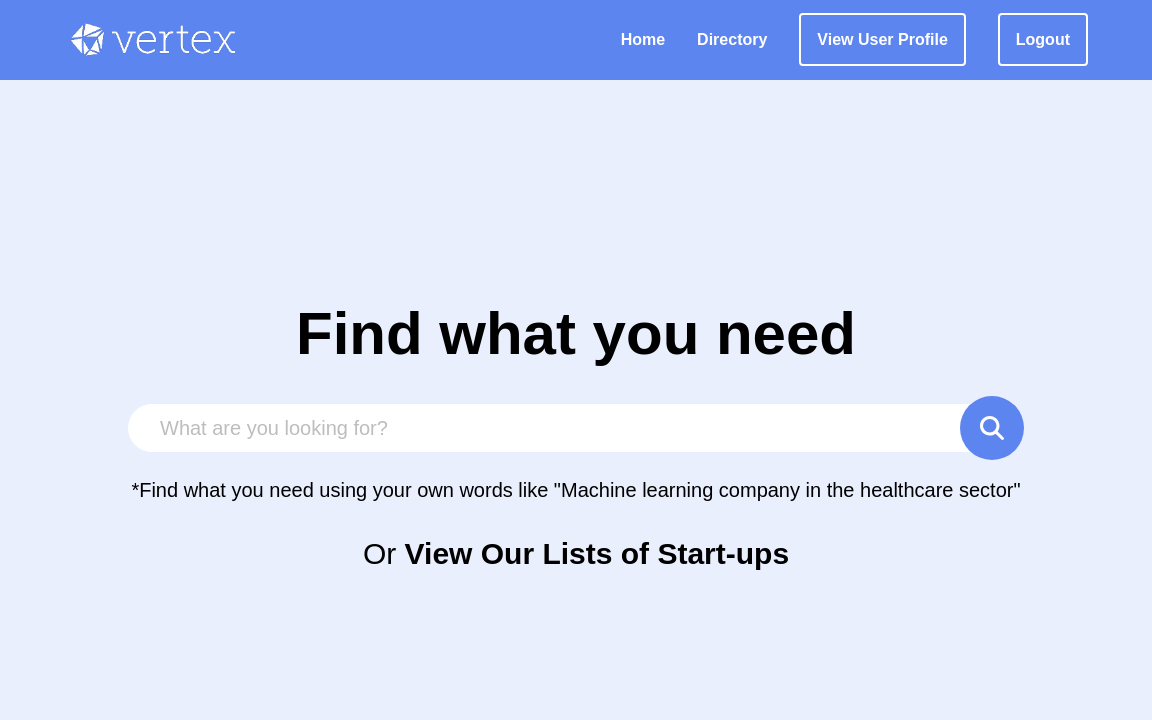
Test: Testing Routing › Clicking on Logout button navigates back to page with login and sign up buttons
Step 1. Click the link "Logout" → (1043, 40), box [998, 13, 1088, 66]
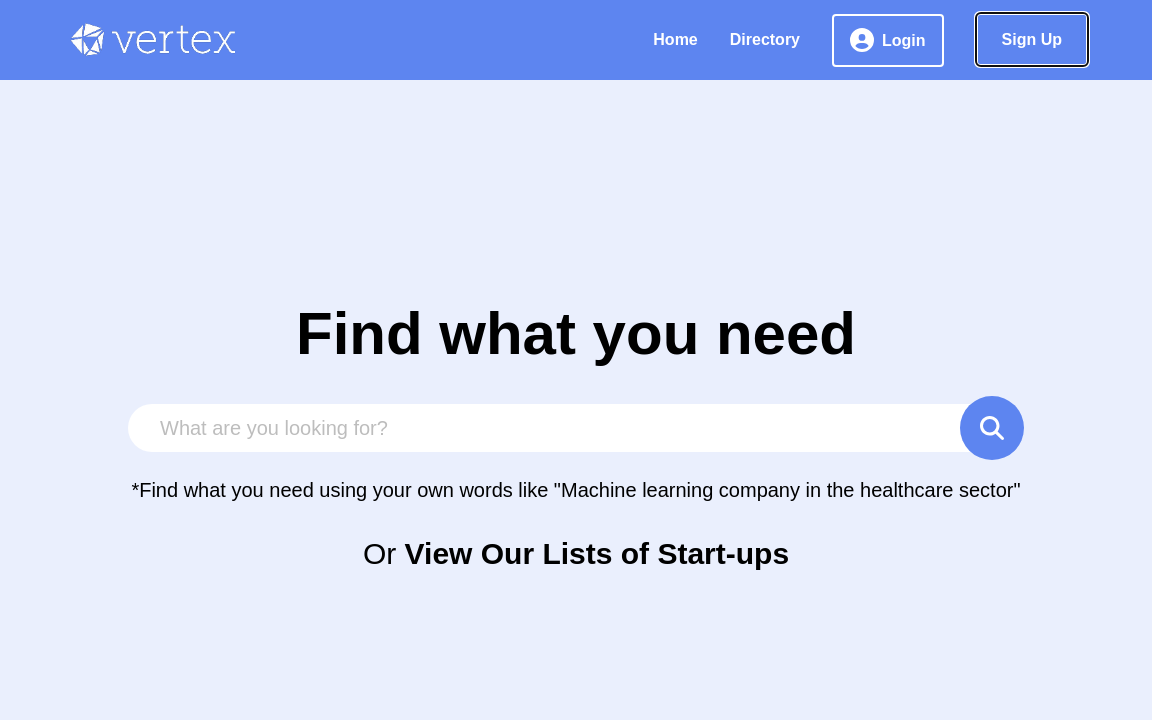
Now the link "Login" is shown, box [832, 14, 944, 66]
Now the link "Sign Up" is shown, box [976, 13, 1088, 66]
